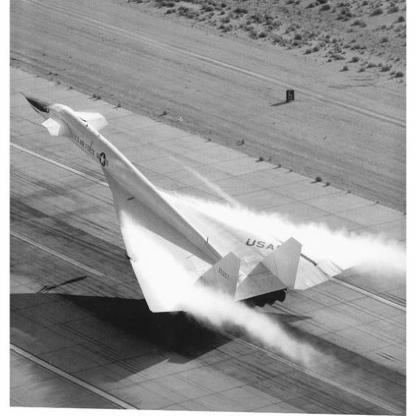XB70: (19, 92, 361, 324)
